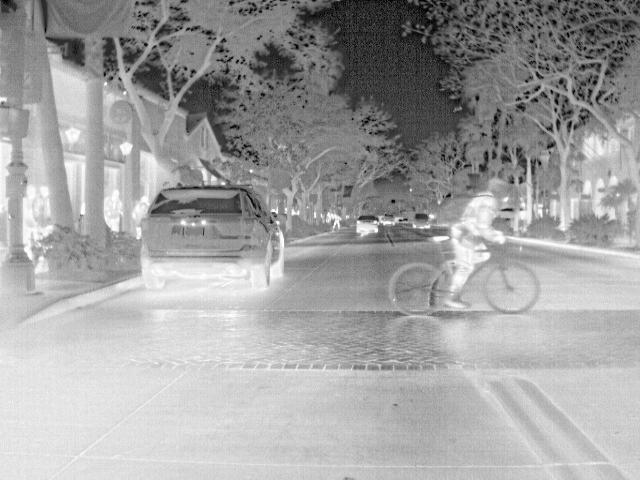car: (137, 183, 287, 292), (355, 215, 379, 236), (410, 212, 433, 232), (380, 213, 395, 227)
person: (438, 180, 512, 311), (130, 193, 152, 239), (20, 206, 40, 255), (103, 188, 125, 232), (39, 181, 52, 232), (26, 184, 38, 214), (329, 216, 342, 230)
